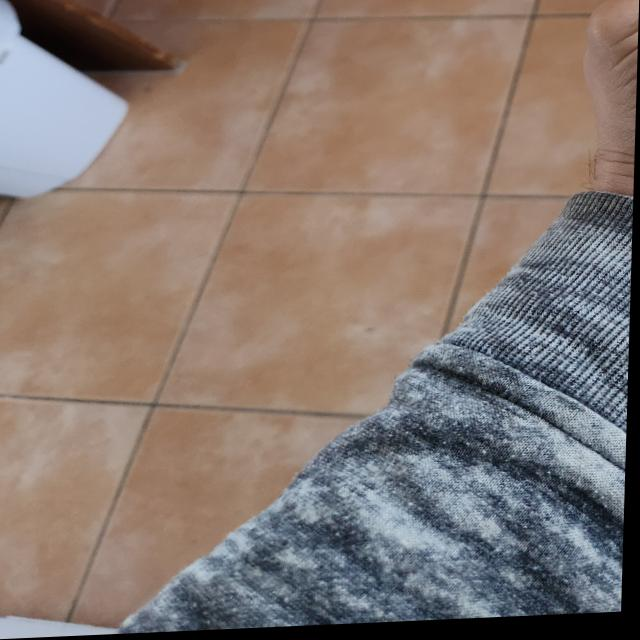rice: (70, 0, 640, 68)
